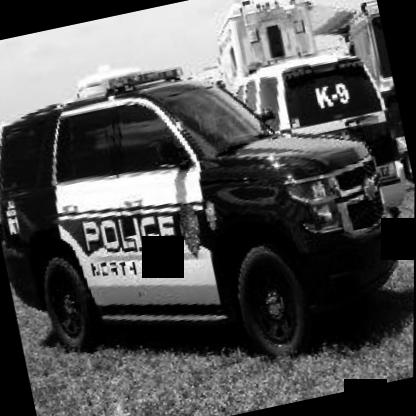emergency: (0, 34, 415, 408)
